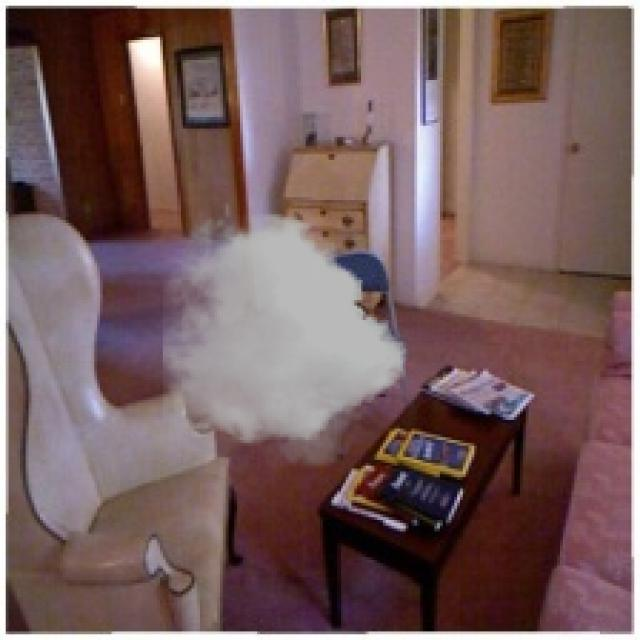smoke: (163, 209, 406, 474)
